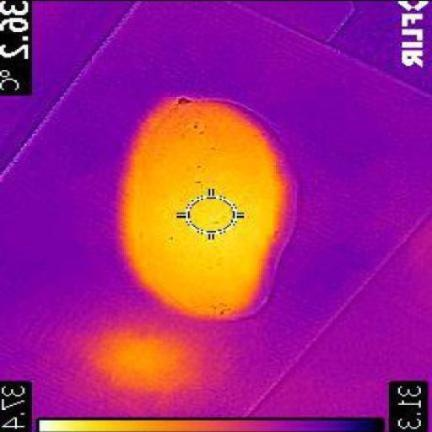mango: (118, 95, 293, 318)
